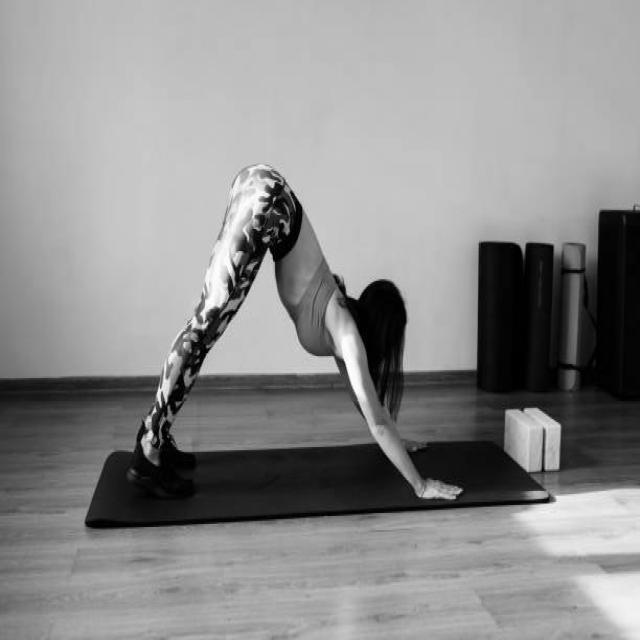Downward-Facing_Dog: (117, 159, 466, 509)
